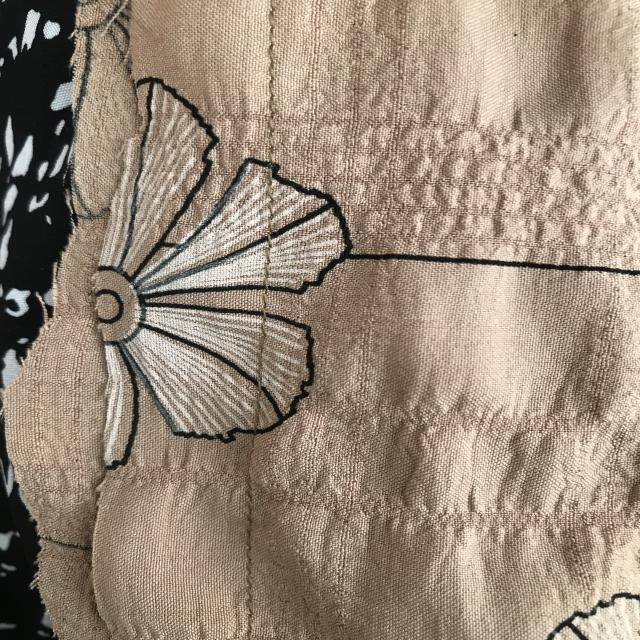good: (231, 500, 274, 614), (260, 20, 291, 142)
